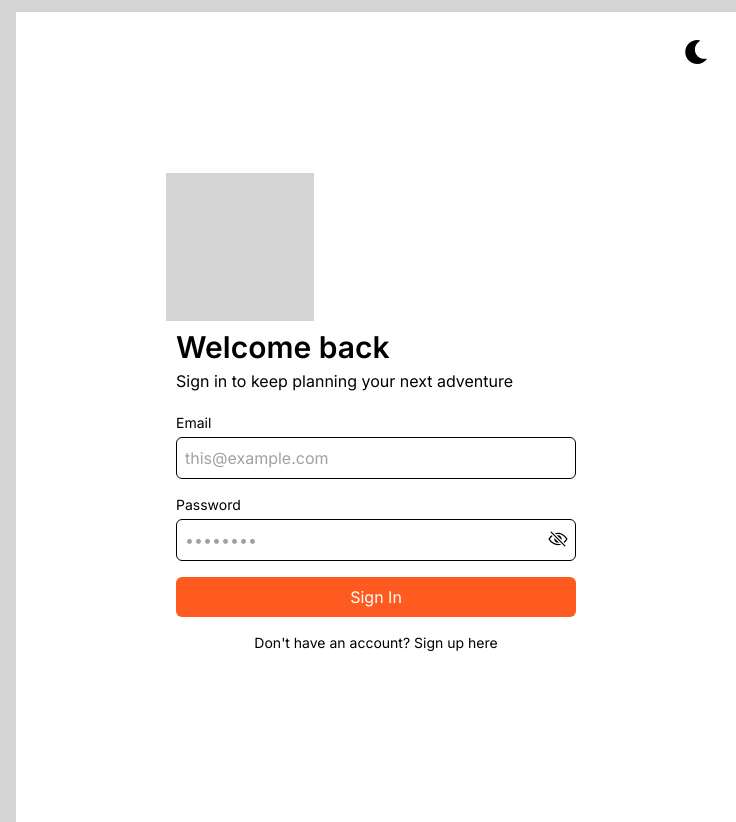
Test: AuthPage › should redirect user to log in after registering
Step 1. Click the button "Sign up here" → (456, 643), box x1=414 y1=633 x2=498 y2=653
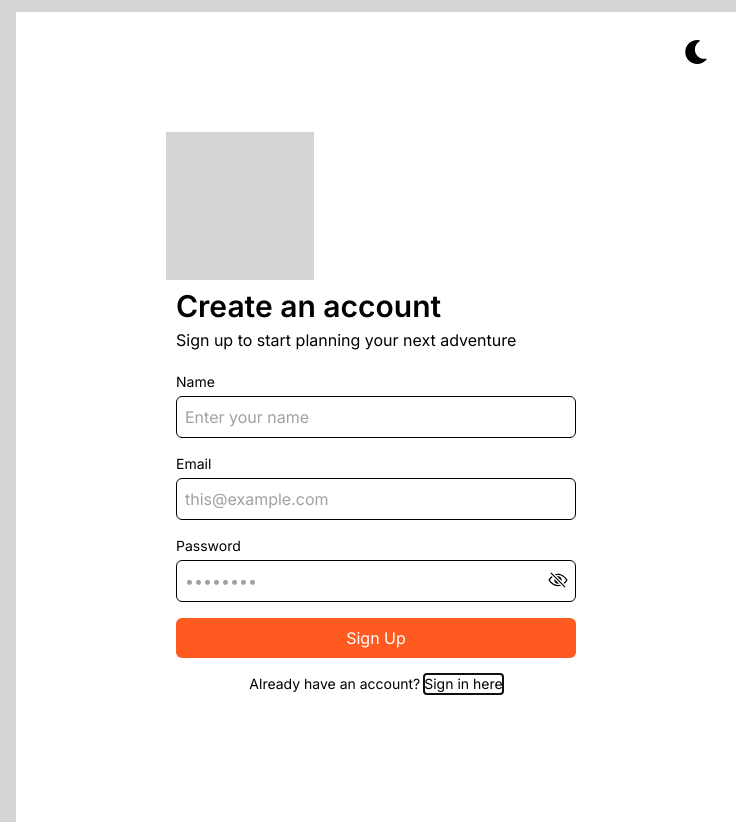
Step 2. Type "Jane Doe" into the field labelled "Name" → (376, 417), box x1=176 y1=396 x2=576 y2=438
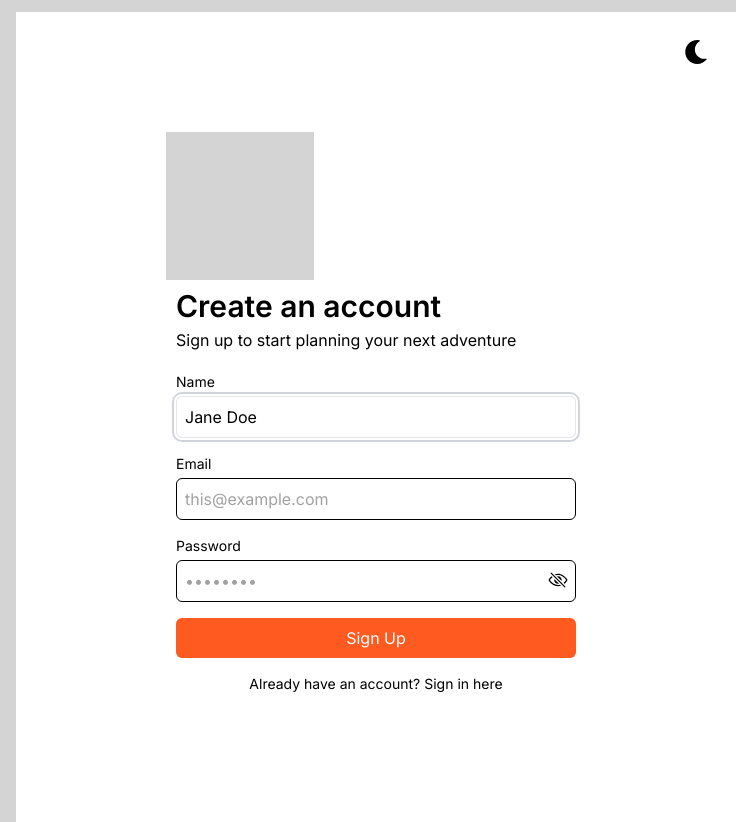
Step 3. Type "jane@example.com" into the field labelled "Email" → (376, 499), box x1=176 y1=478 x2=576 y2=520
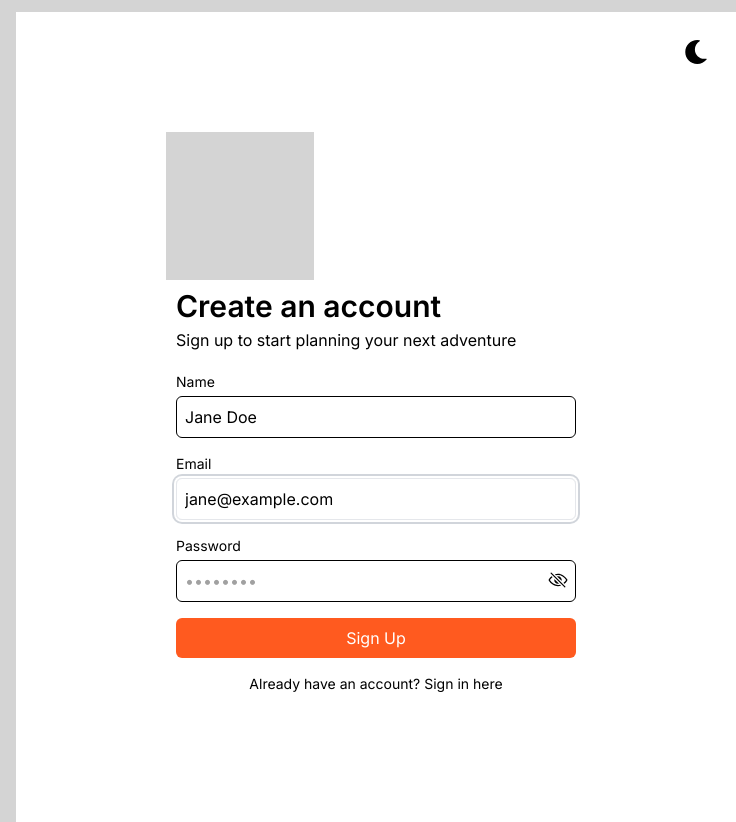
Step 4. Type "Password1" into the password field with placeholder "••••••••" → (376, 581), box x1=176 y1=560 x2=576 y2=602
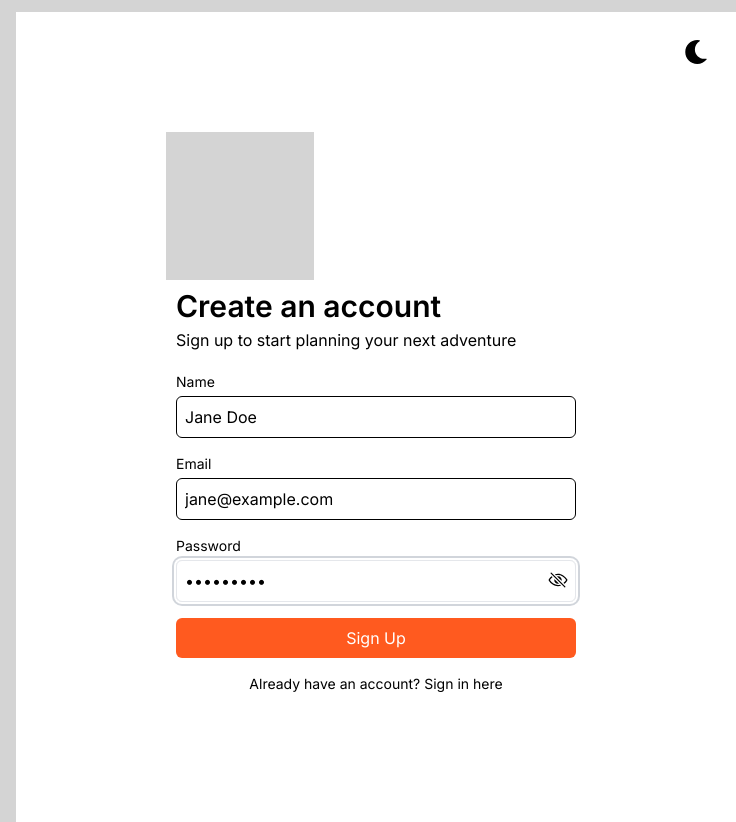
Step 5. Click the button "Sign Up" → (376, 638), box x1=176 y1=618 x2=576 y2=658
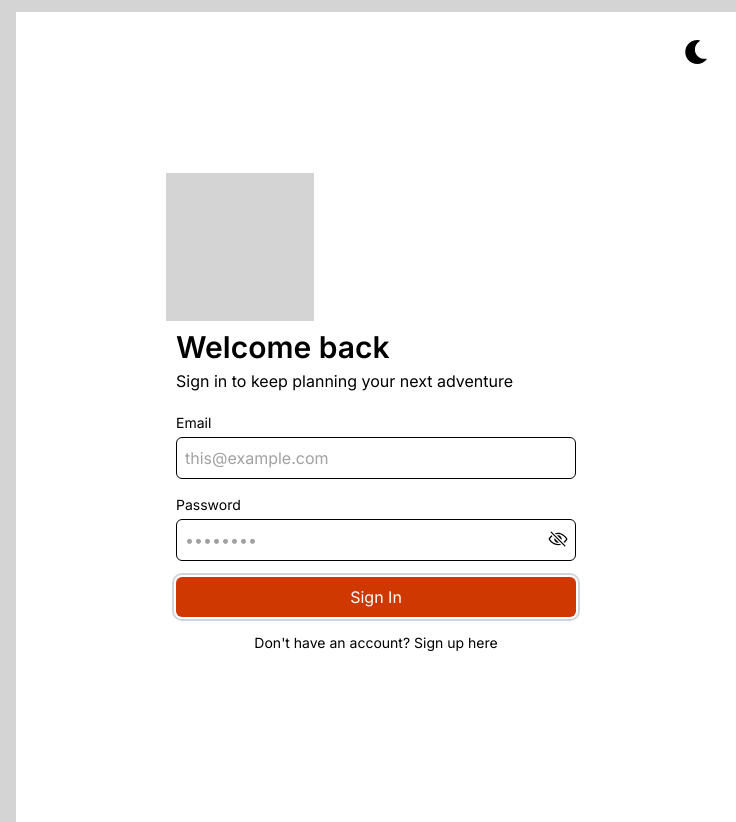
Result: the heading "Welcome back" is shown at x1=176 y1=329 x2=390 y2=365
